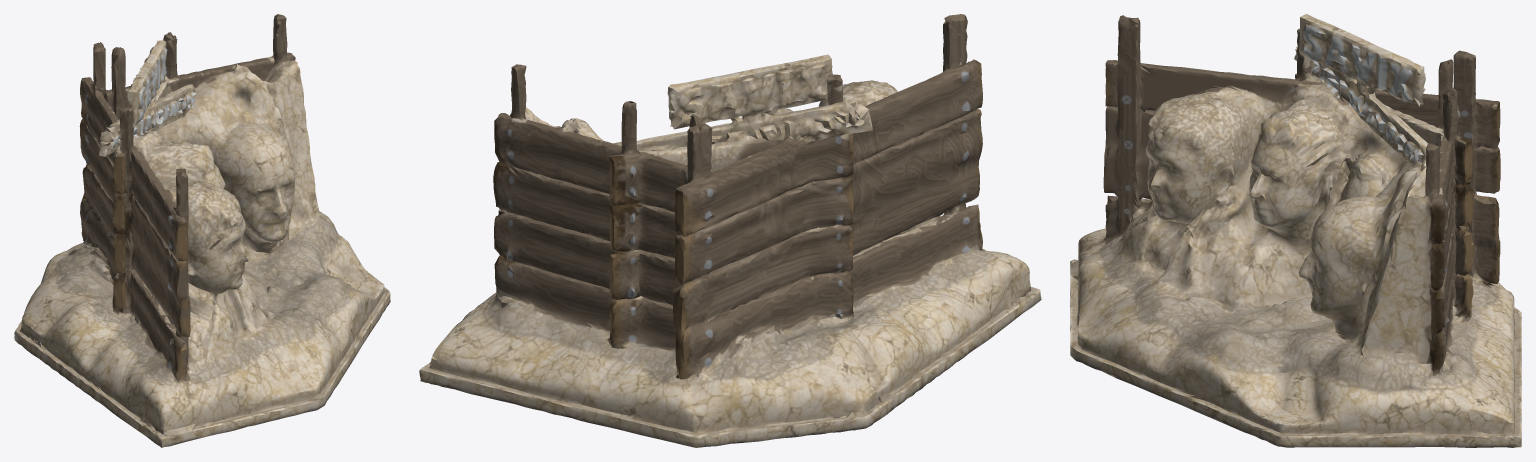
Rendered from mount-rushmore.glb.
3 renders of one model, left to right at view 1: azimuth 30°, elevation 25°; view 2: azimuth 150°, elevation 25°; view 3: azimuth 270°, elevation 25°, orthographic. The views are drawn at different scales.
Visible parts, largest first — view 1: Object_2; view 2: Object_2; view 3: Object_2.
Part boxes in pixels (box(x1,y1,x2,y2)): Object_2: box(14, 14, 390, 447); Object_2: box(419, 14, 1041, 447); Object_2: box(1070, 14, 1521, 447).
Bounding box in the file's own units: 2.51 × 1.95 × 2.69.
Materials: 1 (1 with a texture image).
